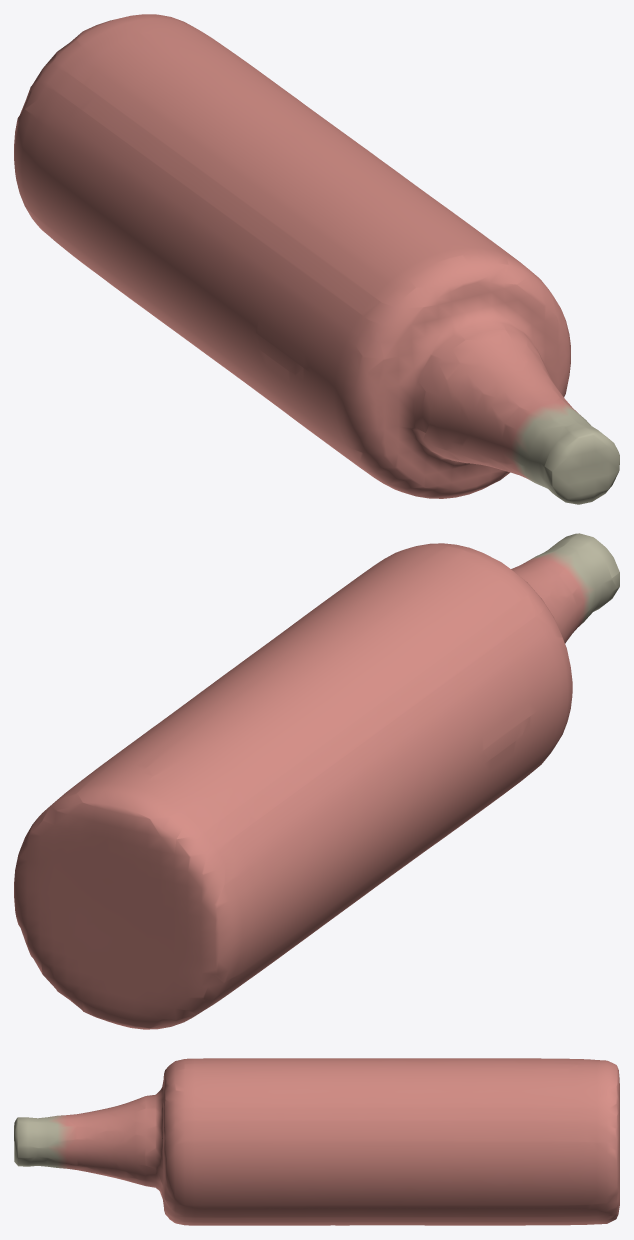
The model's file is a bottle with open affordance.obj.
3 renders of one model, top to bottom at view 1: azimuth 30°, elevation 25°; view 2: azimuth 150°, elevation 25°; view 3: azimuth 270°, elevation 25°, orthographic. The views are drawn at different scales.
Bounding box in the file's own units: 0.2734 × 0.2774 × 1.
